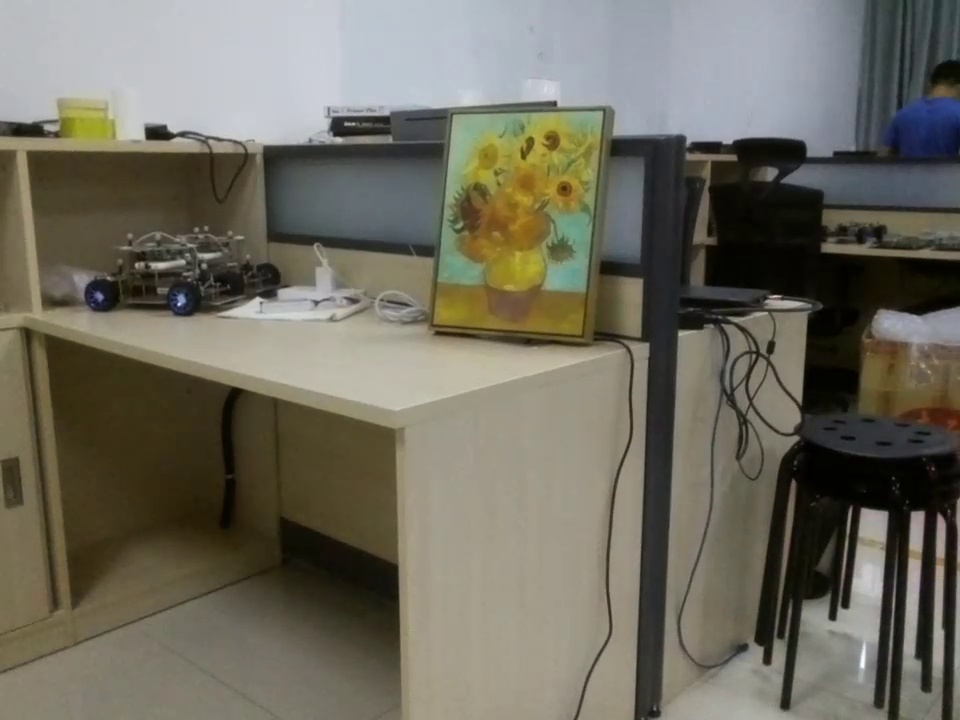painting: (431, 108, 616, 344)
